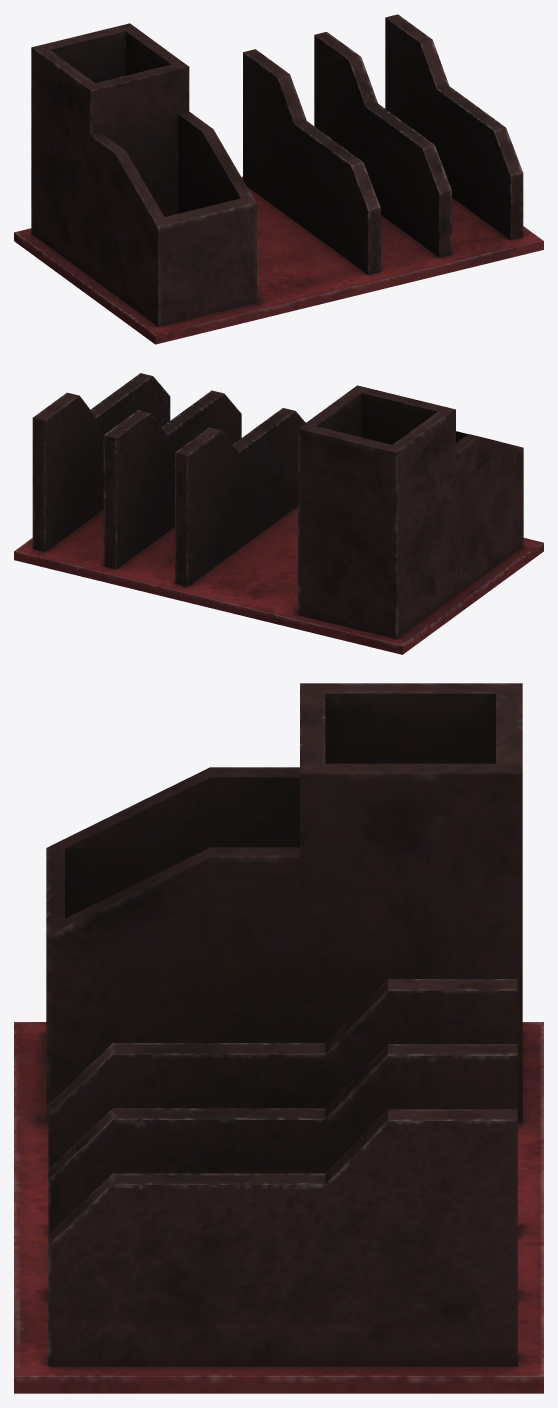
The model's file is penbox.dae.
3 views of the same model, one above another, from view 1: azimuth 30°, elevation 25°; view 2: azimuth 150°, elevation 25°; view 3: azimuth 270°, elevation 25° (orthographic). The views are drawn at different scales.
Visible parts, largest first — view 1: polySurface9; view 2: polySurface9; view 3: polySurface9.
Boxes of the visible parts, box(x1,y1,x2,y2) form: polySurface9: box(14, 14, 543, 344); polySurface9: box(14, 373, 543, 654); polySurface9: box(14, 683, 543, 1393).
Bounding box in the file's own units: 0.3996 × 0.1916 × 0.2519.
